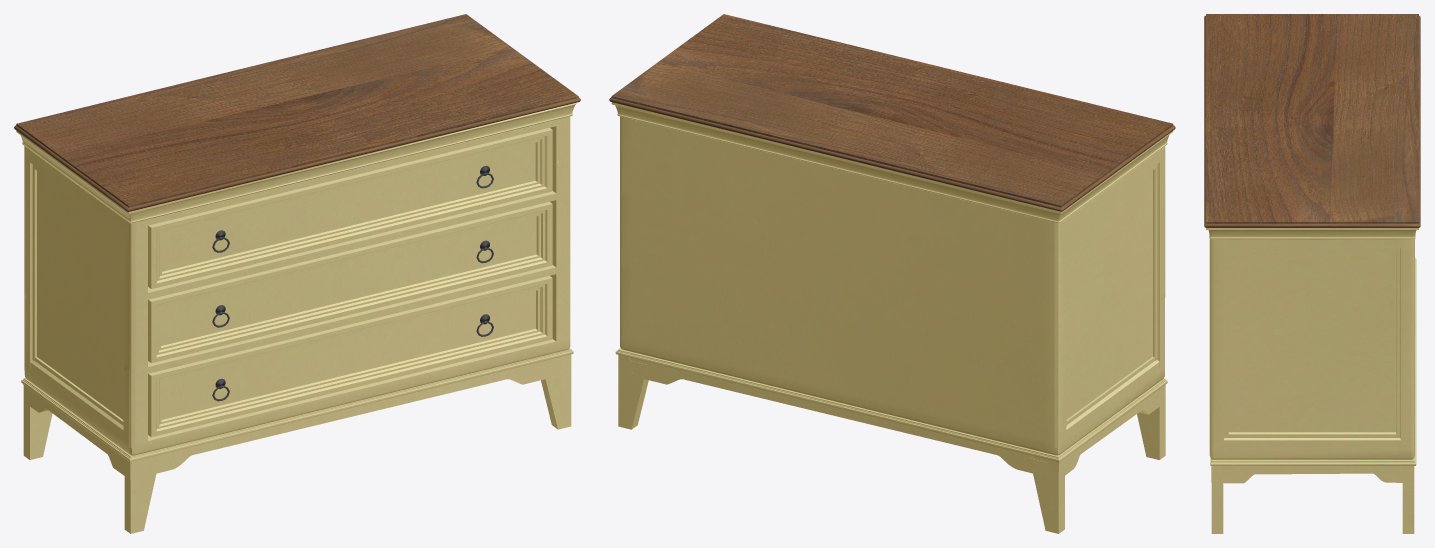
The model's file is example8.glb.
3 views of the same model, side by side, from view 1: azimuth 30°, elevation 25°; view 2: azimuth 150°, elevation 25°; view 3: azimuth 270°, elevation 25° (orthographic). The views are drawn at different scales.
Visible parts, largest first — view 1: Merged Objects 1, столешница, Merged Objects; view 2: Merged Objects 1, столешница; view 3: Merged Objects 1, столешница.
Boxes of the visible parts, box(x1,y1,x2,y2) form: Merged Objects 1: box(16, 103, 576, 533); столешница: box(14, 14, 580, 211); Merged Objects: box(212, 165, 493, 401); Merged Objects 1: box(611, 102, 1173, 533); столешница: box(609, 14, 1175, 211); Merged Objects 1: box(1206, 228, 1418, 533); столешница: box(1204, 14, 1420, 227).
Bounding box in the file's own units: 0.4125 × 0.2876 × 0.1796.
Materials: 3 (2 with a texture image).
